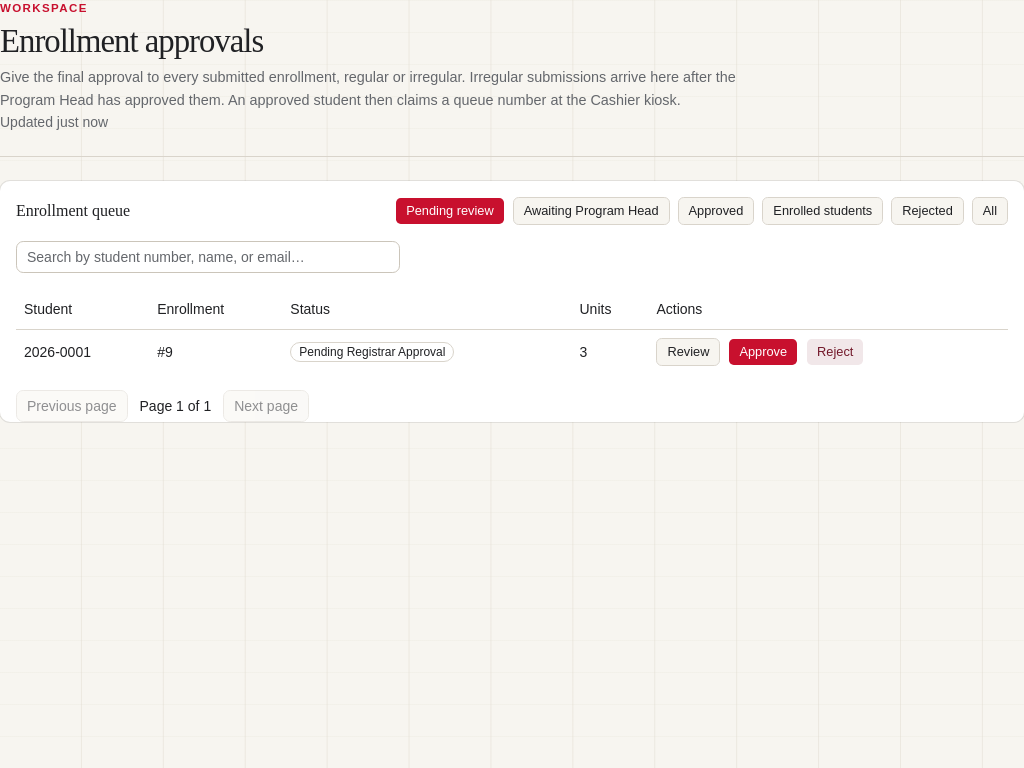
Test: RegistrarEnrollmentWorkspace › does not require acknowledgement for an enrollment that was never flagged
Click the button "Approve".
click(763, 352)  # box [728,338,798,366]
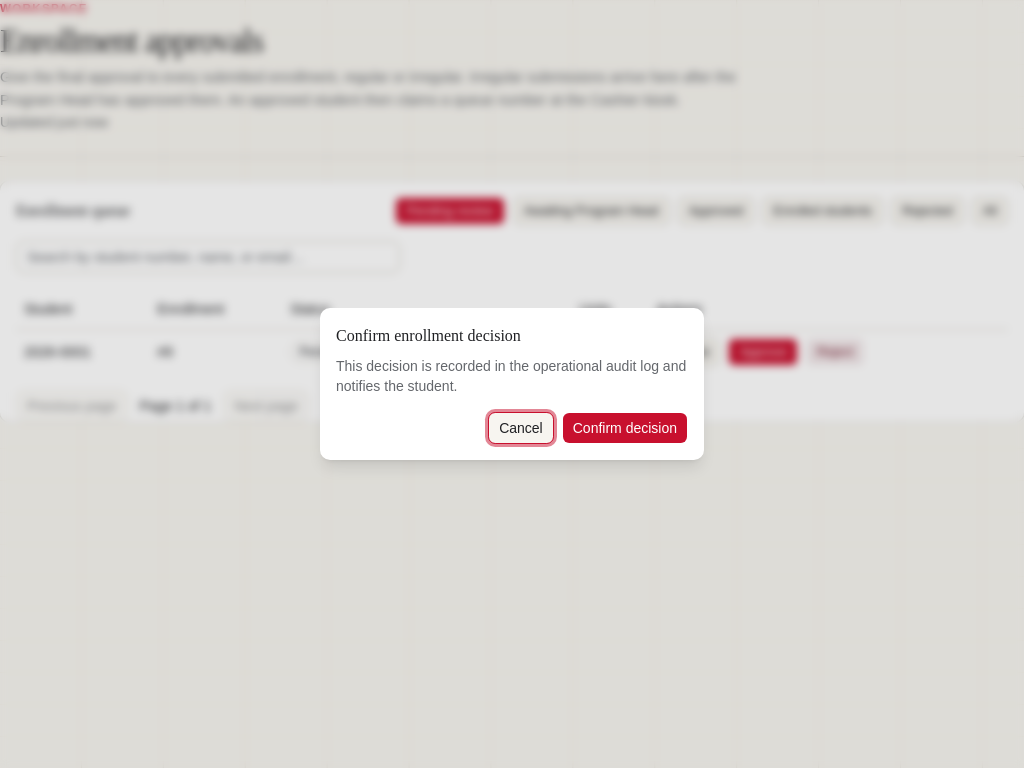
Check: the button "Confirm decision" is enabled, box [562,412,688,444]
